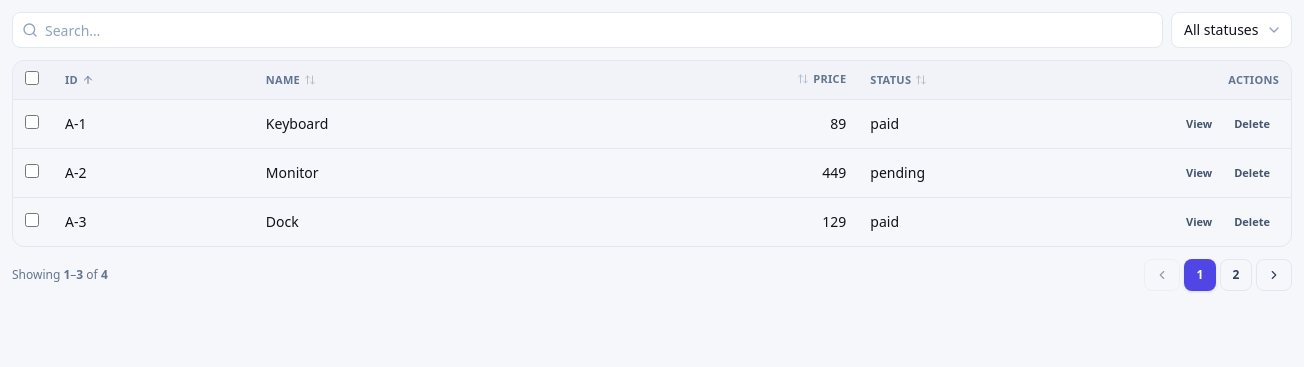
Scenario: DataTable › selects every row on the current page at once
The image size is (1304, 367).
Click the checkbox named "Select all rows on this page".
click(32, 78)  # box [25, 71, 39, 85]
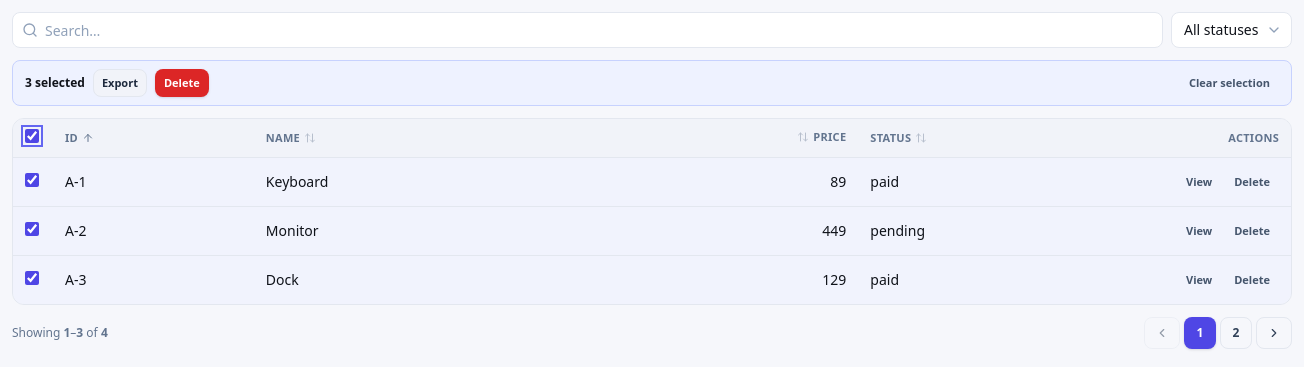
Now the text "3 selected" is shown, box [25, 75, 85, 91]
